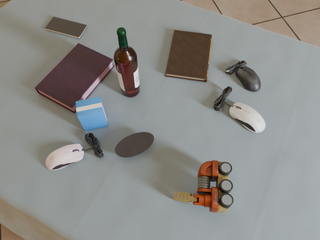book: (35, 43, 115, 113), (165, 30, 212, 82)
bottle: (114, 27, 140, 97)
box: (75, 97, 108, 131)
mouse: (229, 102, 265, 133), (225, 61, 261, 92), (46, 144, 85, 170), (115, 132, 154, 157)
phone: (45, 17, 87, 38)
toy_car: (174, 160, 233, 213)
